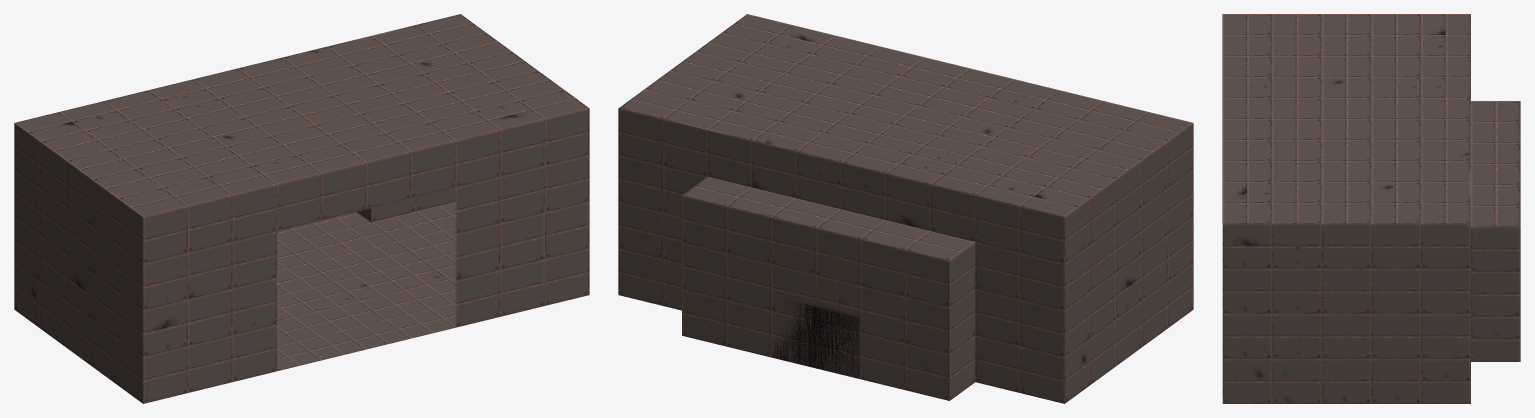
Rendered from Dungeon entrrance 1.obj.
The picture shows the model from 3 angles, left to right: view 1: azimuth 30°, elevation 25°; view 2: azimuth 150°, elevation 25°; view 3: azimuth 270°, elevation 25°; orthographic projection. The views are drawn at different scales.
Visible parts, largest first — view 1: Default; view 2: Default; view 3: Default.
Part boxes in pixels (left/top/right/bottom): Default: left=14, top=14, right=589, bottom=403; Default: left=618, top=14, right=1193, bottom=403; Default: left=1222, top=14, right=1520, bottom=403.
Size of the model in its own units: 20 by 8 by 12.
1 material, 1 textured.
